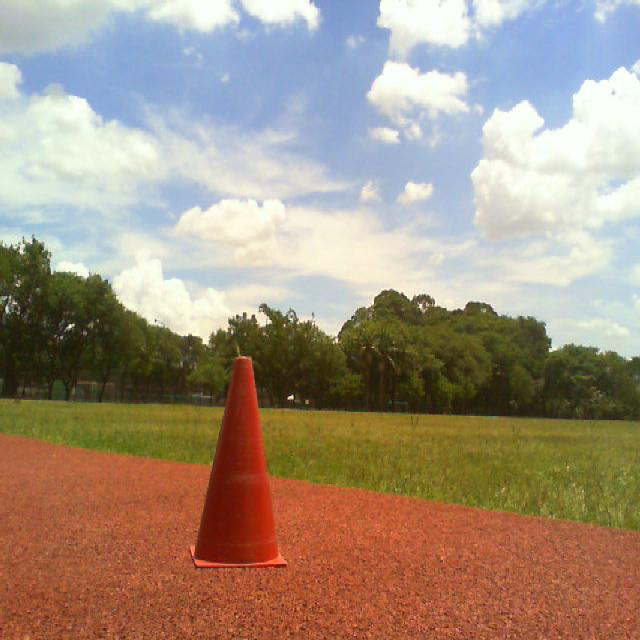cone: (190, 358, 288, 570)
